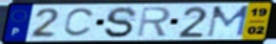2: (178, 4, 210, 39), (30, 7, 61, 39)
C: (61, 7, 97, 39)
M: (205, 4, 252, 38)
R: (135, 6, 173, 38)
S: (102, 5, 140, 39)
